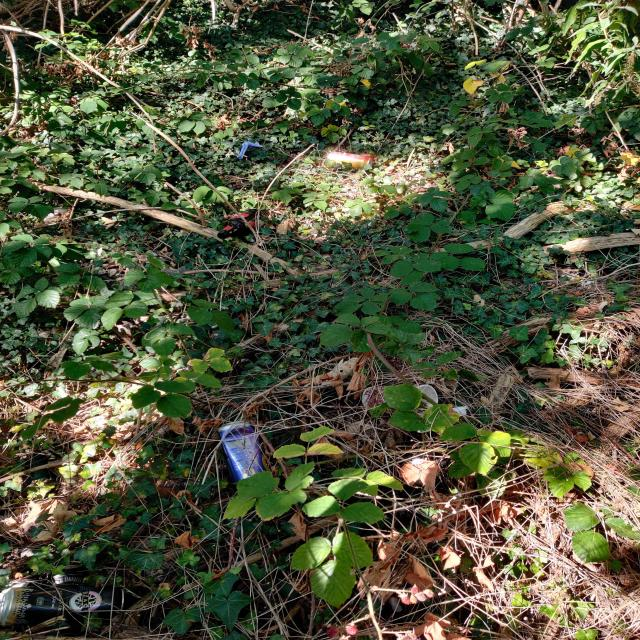litter: (221, 420, 267, 478), (237, 142, 261, 160)
